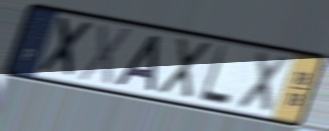A: (112, 32, 165, 94)
L: (196, 43, 233, 109)
X: (233, 48, 294, 117), (35, 15, 96, 82), (76, 21, 135, 89), (156, 35, 214, 100)
